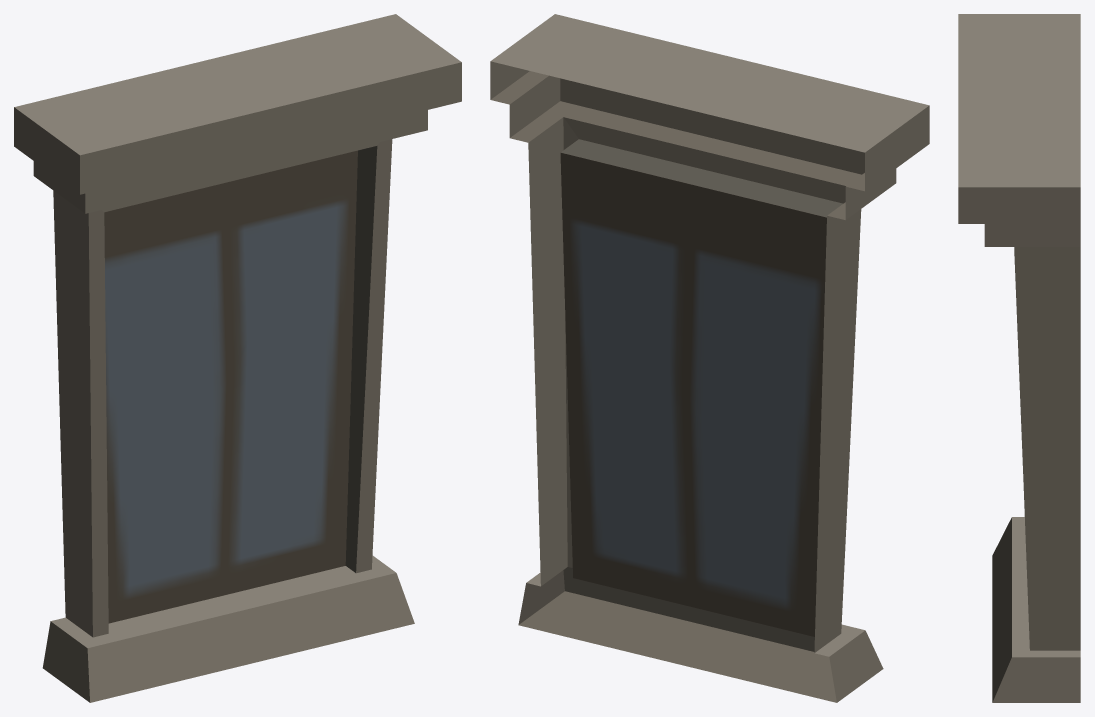
Rendered from Window_A10.fbx.
3 renders of one model, left to right at view 1: azimuth 30°, elevation 25°; view 2: azimuth 150°, elevation 25°; view 3: azimuth 270°, elevation 25°, orthographic. The views are drawn at different scales.
Visible parts, largest first — view 1: Window_A10; view 2: Window_A10; view 3: Window_A10.
Boxes of the visible parts, <box> form: Window_A10: <box>14,14,461,702</box>; Window_A10: <box>490,14,929,702</box>; Window_A10: <box>958,14,1080,702</box>.
Bounding box in the file's own units: 191 × 271 × 56.94.
